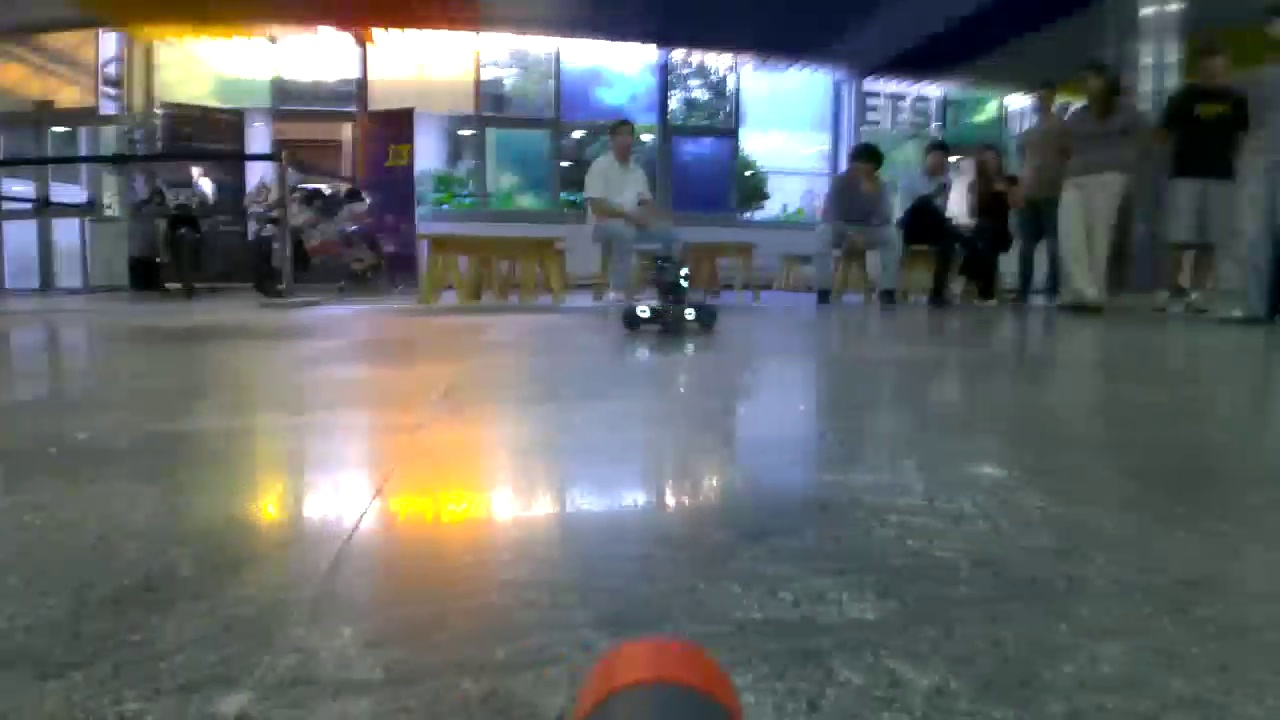robot: (620, 255, 718, 331)
